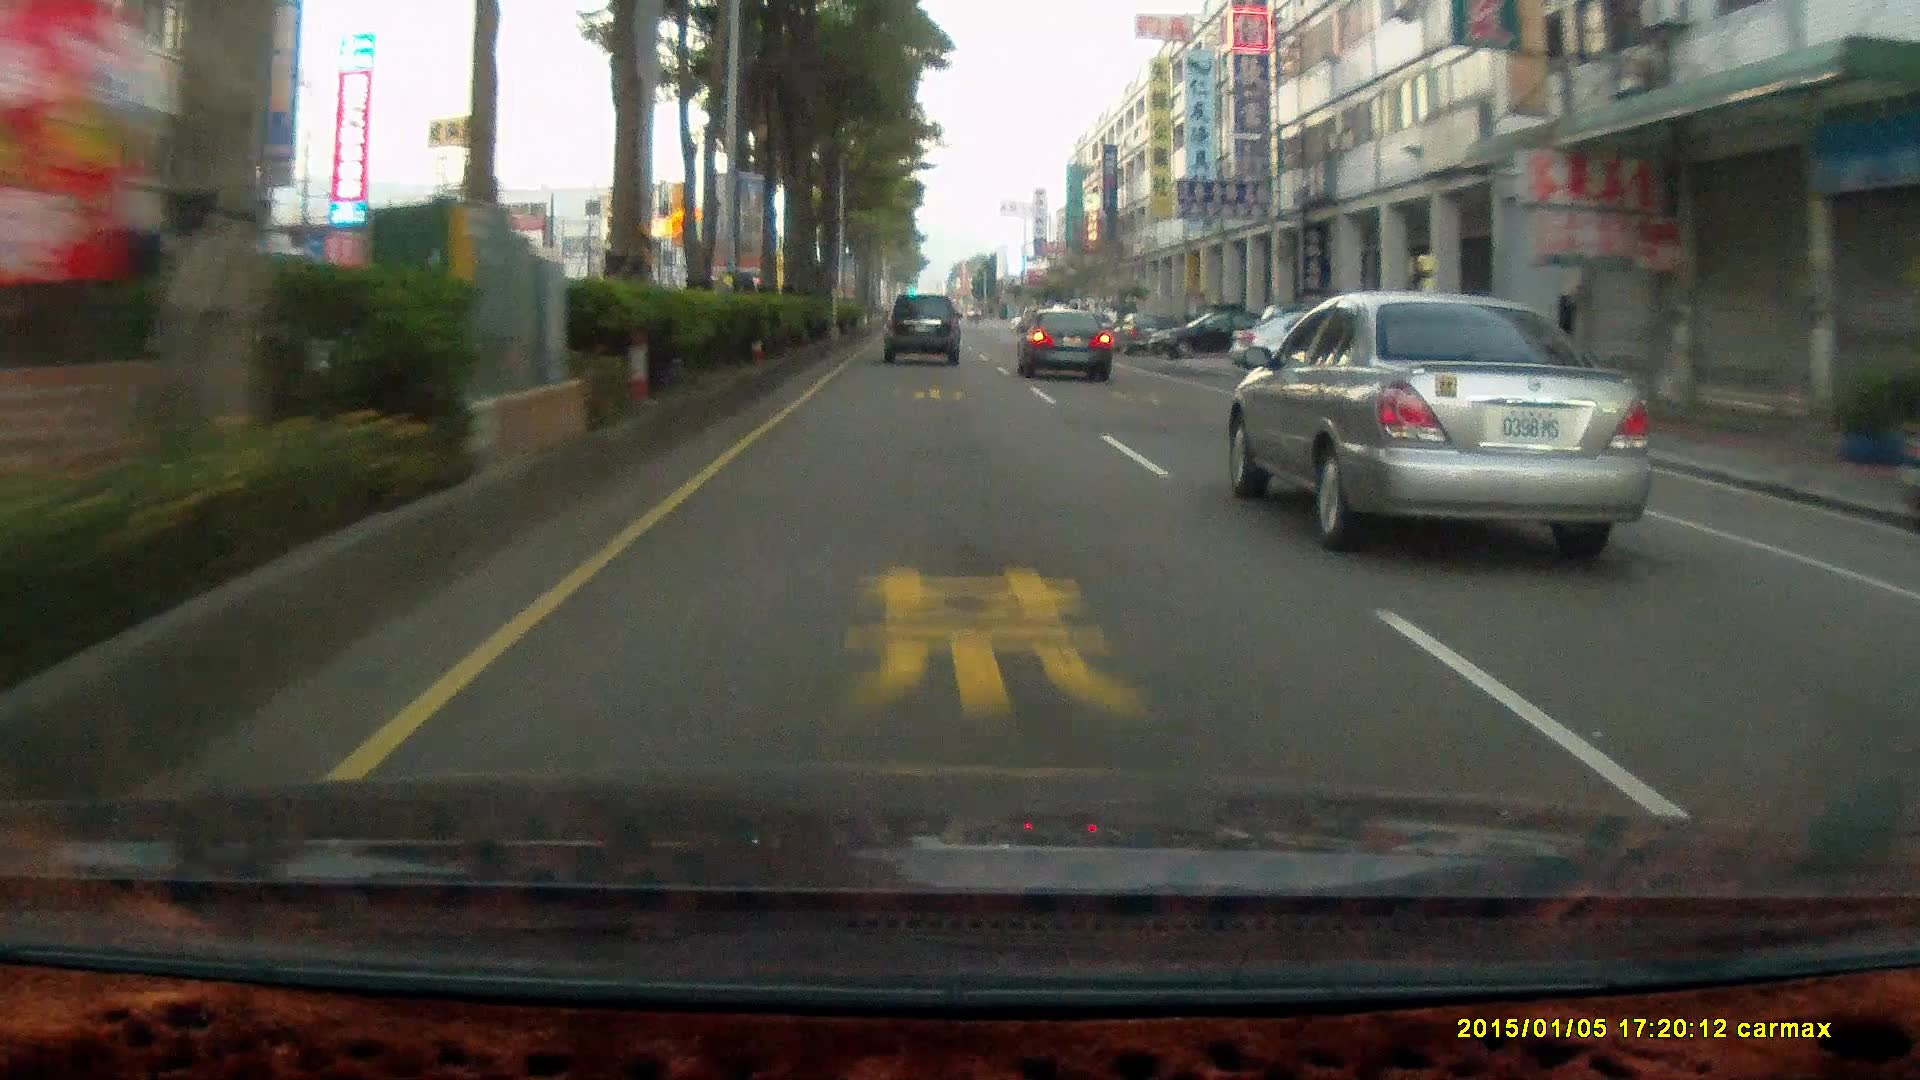vehicle: (1226, 286, 1675, 551), (1422, 316, 1615, 456), (1229, 307, 1418, 384), (1015, 309, 1113, 382), (1017, 309, 1116, 381), (1145, 307, 1278, 359), (882, 291, 965, 368), (881, 291, 963, 364), (1110, 311, 1168, 353)
